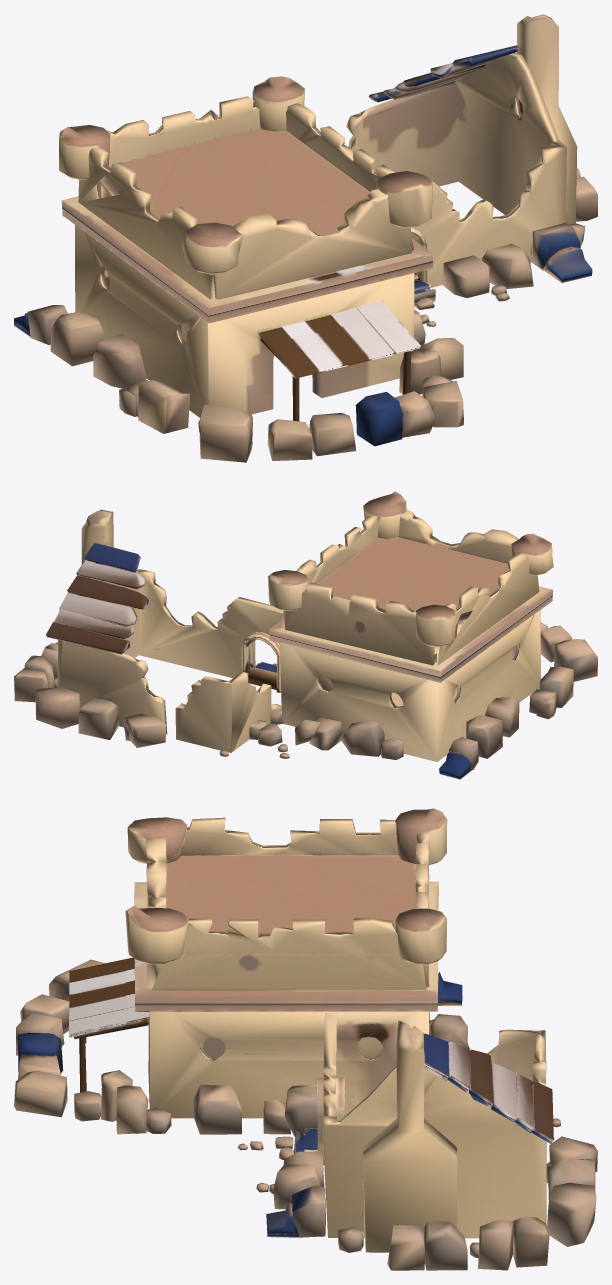
File: meshy-c2-d3.glb
3 views of the same model, one above another, from view 1: azimuth 30°, elevation 25°; view 2: azimuth 150°, elevation 25°; view 3: azimuth 270°, elevation 25° (orthographic). The views are drawn at different scales.
Size of the model in its own units: 1 by 0.362 by 0.8781.
1 material, 1 textured.
